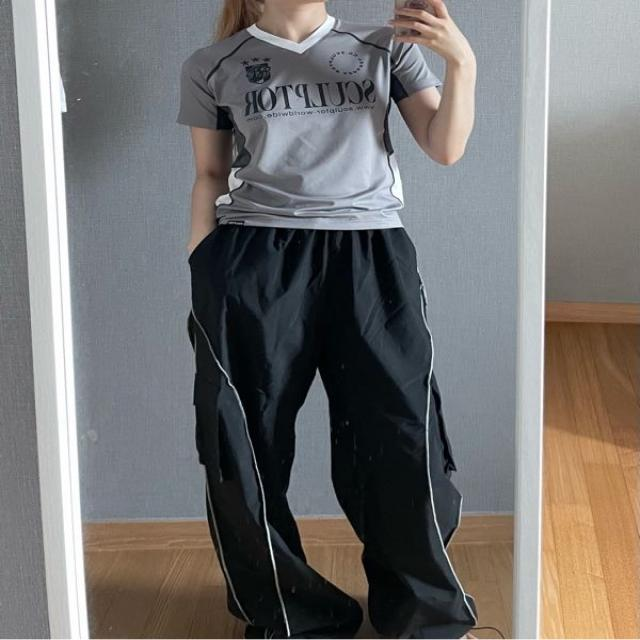cottonpants: (196, 214, 476, 640)
shortsleeve: (175, 14, 443, 229)
